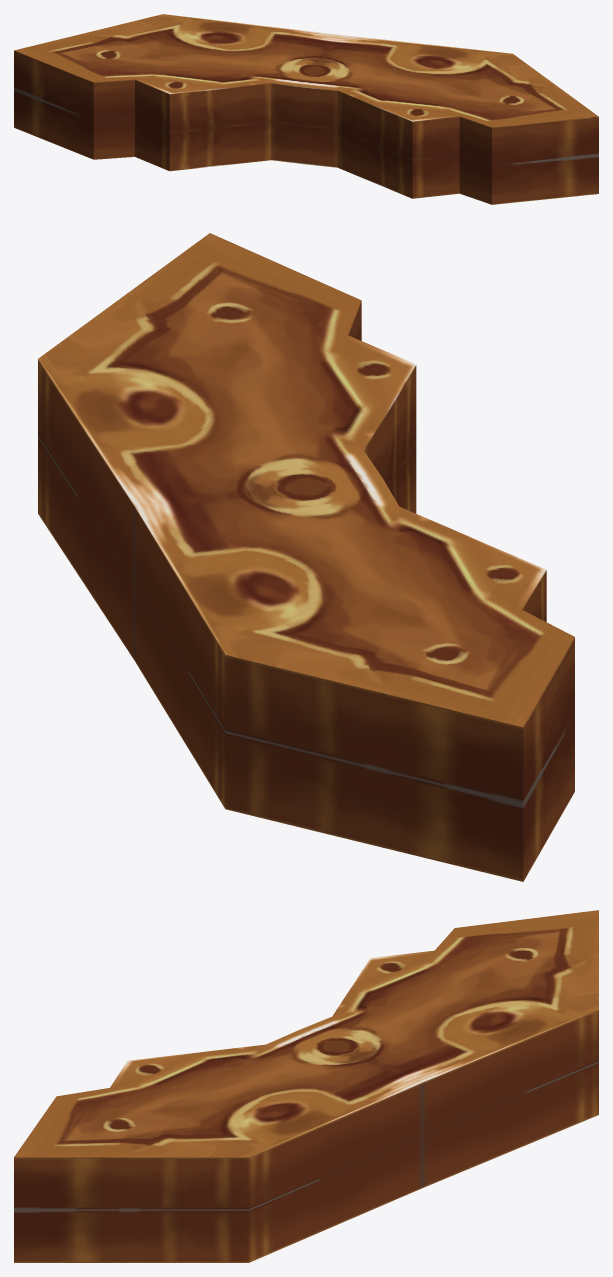
File: diagonalBlock_03.fbx
3 renders of one model, top to bottom at view 1: azimuth 30°, elevation 25°; view 2: azimuth 150°, elevation 25°; view 3: azimuth 270°, elevation 25°, orthographic. The views are drawn at different scales.
Parts seen in each view (by area): view 1: diagonal_03; view 2: diagonal_03; view 3: diagonal_03.
Part boxes in pixels (x1,y1,x2,y2): diagonal_03: [14, 14, 598, 204]; diagonal_03: [38, 233, 574, 881]; diagonal_03: [14, 910, 598, 1262].
Size of what is drawn, in the model's own units: 5.02 by 0.9993 by 5.02.
Materials: 1 (1 with a texture image).
